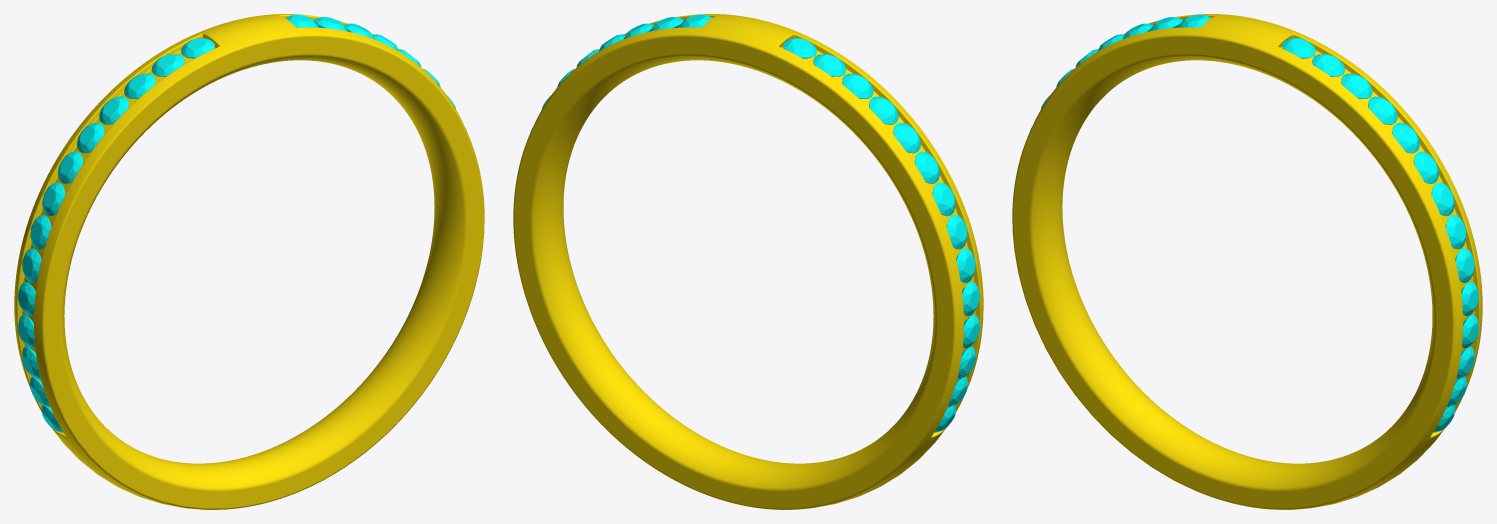
The model's file is CHANNEL.glb.
3 views of the same model, side by side, from view 1: azimuth 30°, elevation 25°; view 2: azimuth 150°, elevation 25°; view 3: azimuth 330°, elevation 25° (orthographic).
Visible parts, largest first — view 1: SH-Channel-13dm; view 2: SH-Channel-13dm; view 3: SH-Channel-13dm.
Boxes of the visible parts, left/top/right/bottom form: SH-Channel-13dm: left=14, top=14, right=484, bottom=509; SH-Channel-13dm: left=513, top=14, right=983, bottom=509; SH-Channel-13dm: left=1012, top=14, right=1482, bottom=509.
Bounding box in the file's own units: 15.9 × 15.85 × 1.76.
